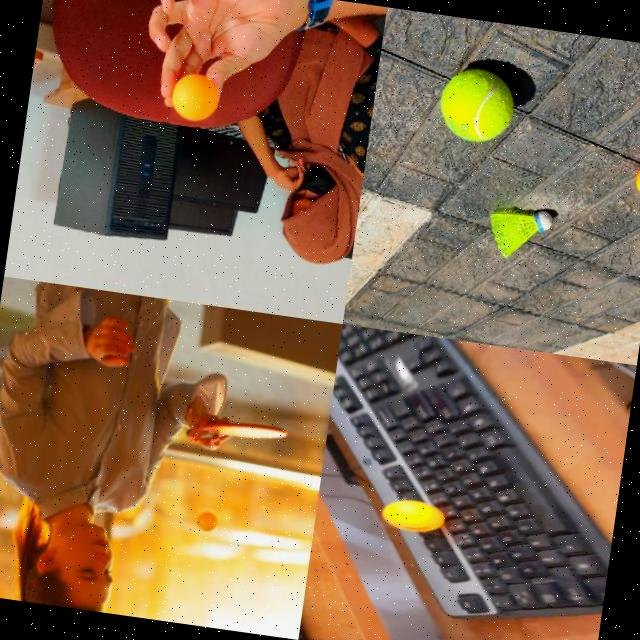ping-pong-ball: (168, 70, 220, 124), (378, 494, 444, 534), (196, 510, 218, 530), (633, 163, 640, 200)
